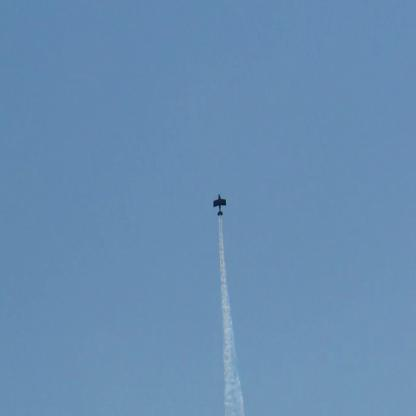aircraft: (213, 193, 226, 216)
